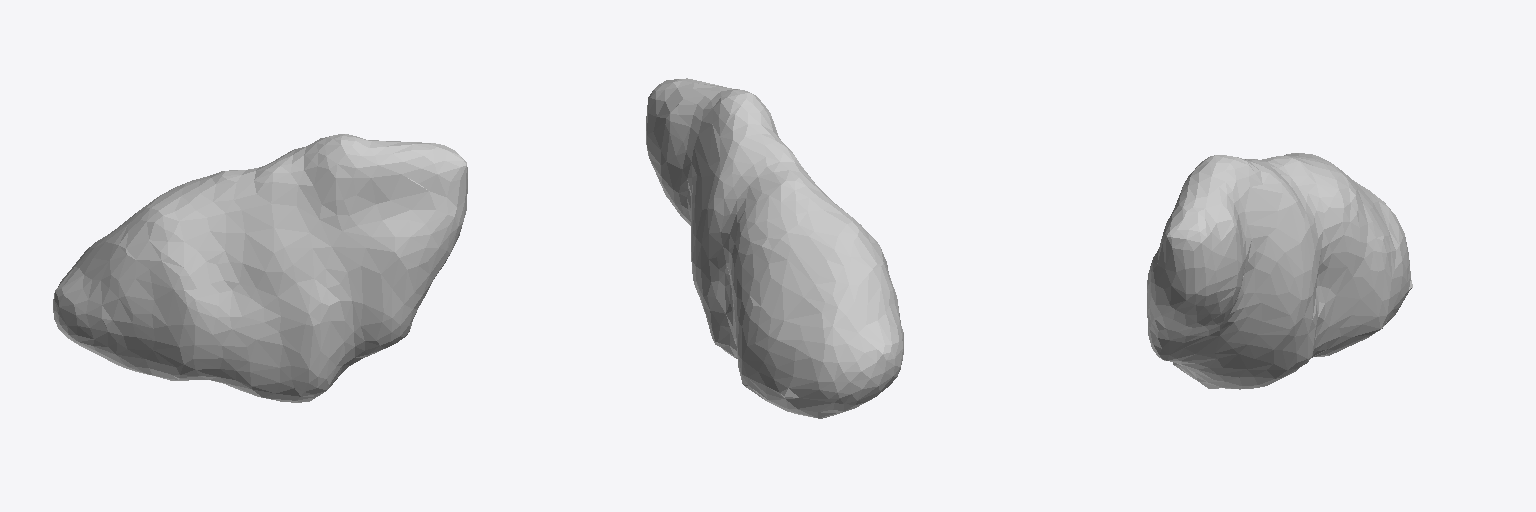
The model's file is L-Globus.obj.
The picture shows the model from 3 angles: view 1: azimuth 30°, elevation 25°; view 2: azimuth 150°, elevation 25°; view 3: azimuth 270°, elevation 25°; orthographic projection.
Visible parts, largest first — view 1: L-globus_LEFT-globus; view 2: L-globus_LEFT-globus; view 3: L-globus_LEFT-globus.
Boxes of the visible parts, x1=… form: L-globus_LEFT-globus: x1=53, y1=134, x2=467, y2=402; L-globus_LEFT-globus: x1=646, y1=78, x2=903, y2=418; L-globus_LEFT-globus: x1=1147, y1=153, x2=1412, y2=389.
Size of the model in its own units: 25.5 by 19.01 by 18.13.